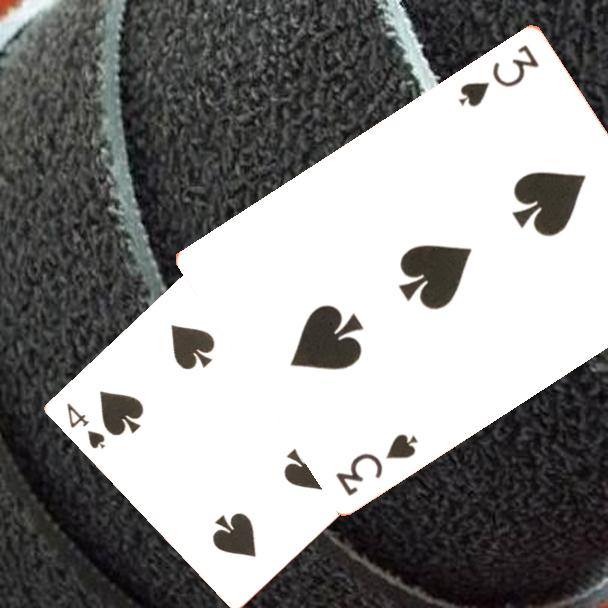s03: (332, 429, 421, 499), (455, 40, 543, 109)
s04: (63, 399, 109, 452)
